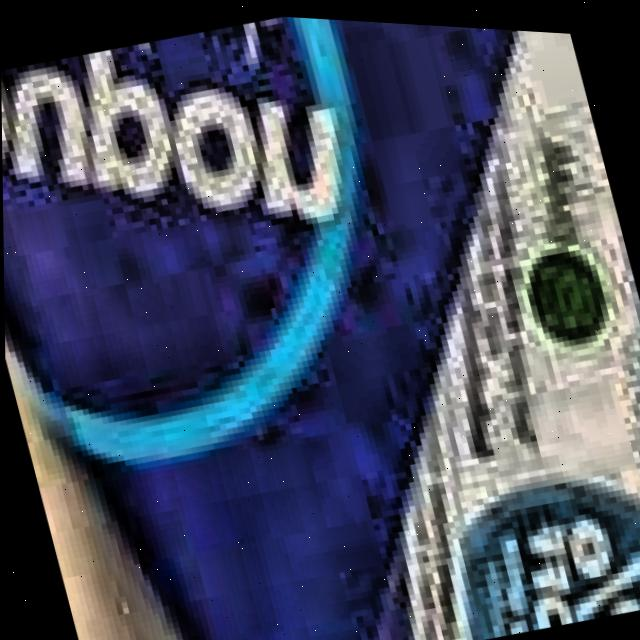paper: (1, 13, 640, 640)
